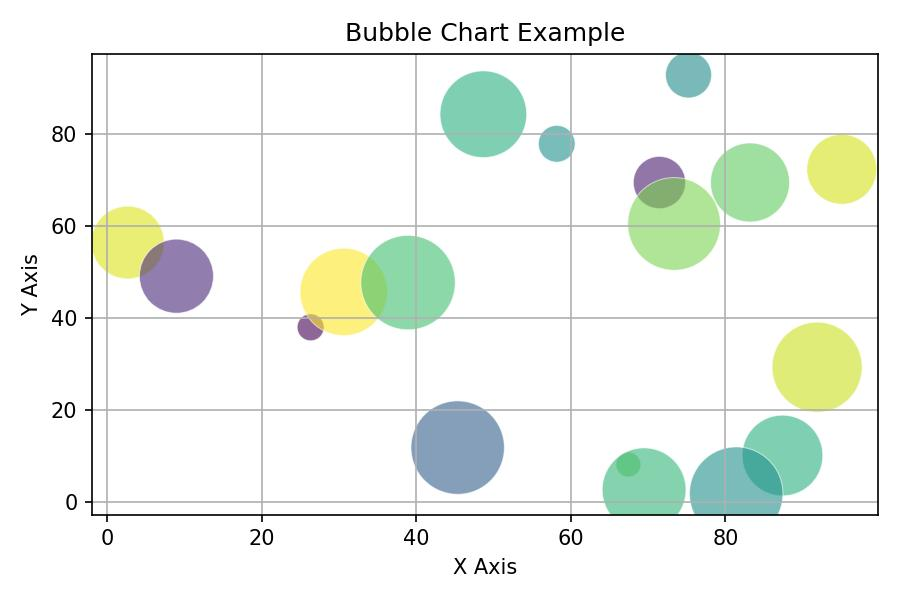axis: (64, 503, 891, 547), (45, 37, 102, 556)
circle: (774, 318, 866, 414), (630, 176, 722, 271), (411, 402, 507, 493), (296, 245, 389, 337), (363, 236, 455, 328), (439, 72, 526, 158), (741, 413, 825, 494), (711, 141, 790, 223), (691, 448, 783, 516), (141, 238, 215, 313), (804, 129, 876, 206), (604, 450, 687, 515), (92, 205, 166, 276), (636, 157, 687, 208), (663, 52, 713, 95), (539, 125, 575, 162), (297, 312, 324, 342)
